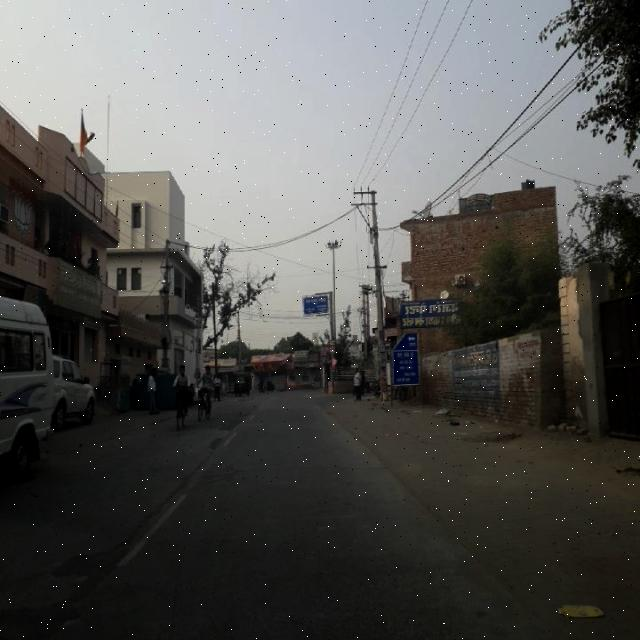D01: (96, 451, 212, 572)
